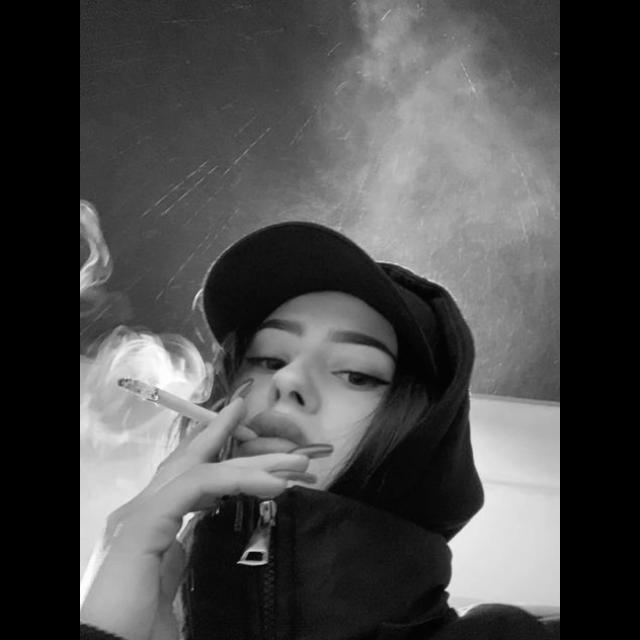rokok: (117, 369, 237, 431)
